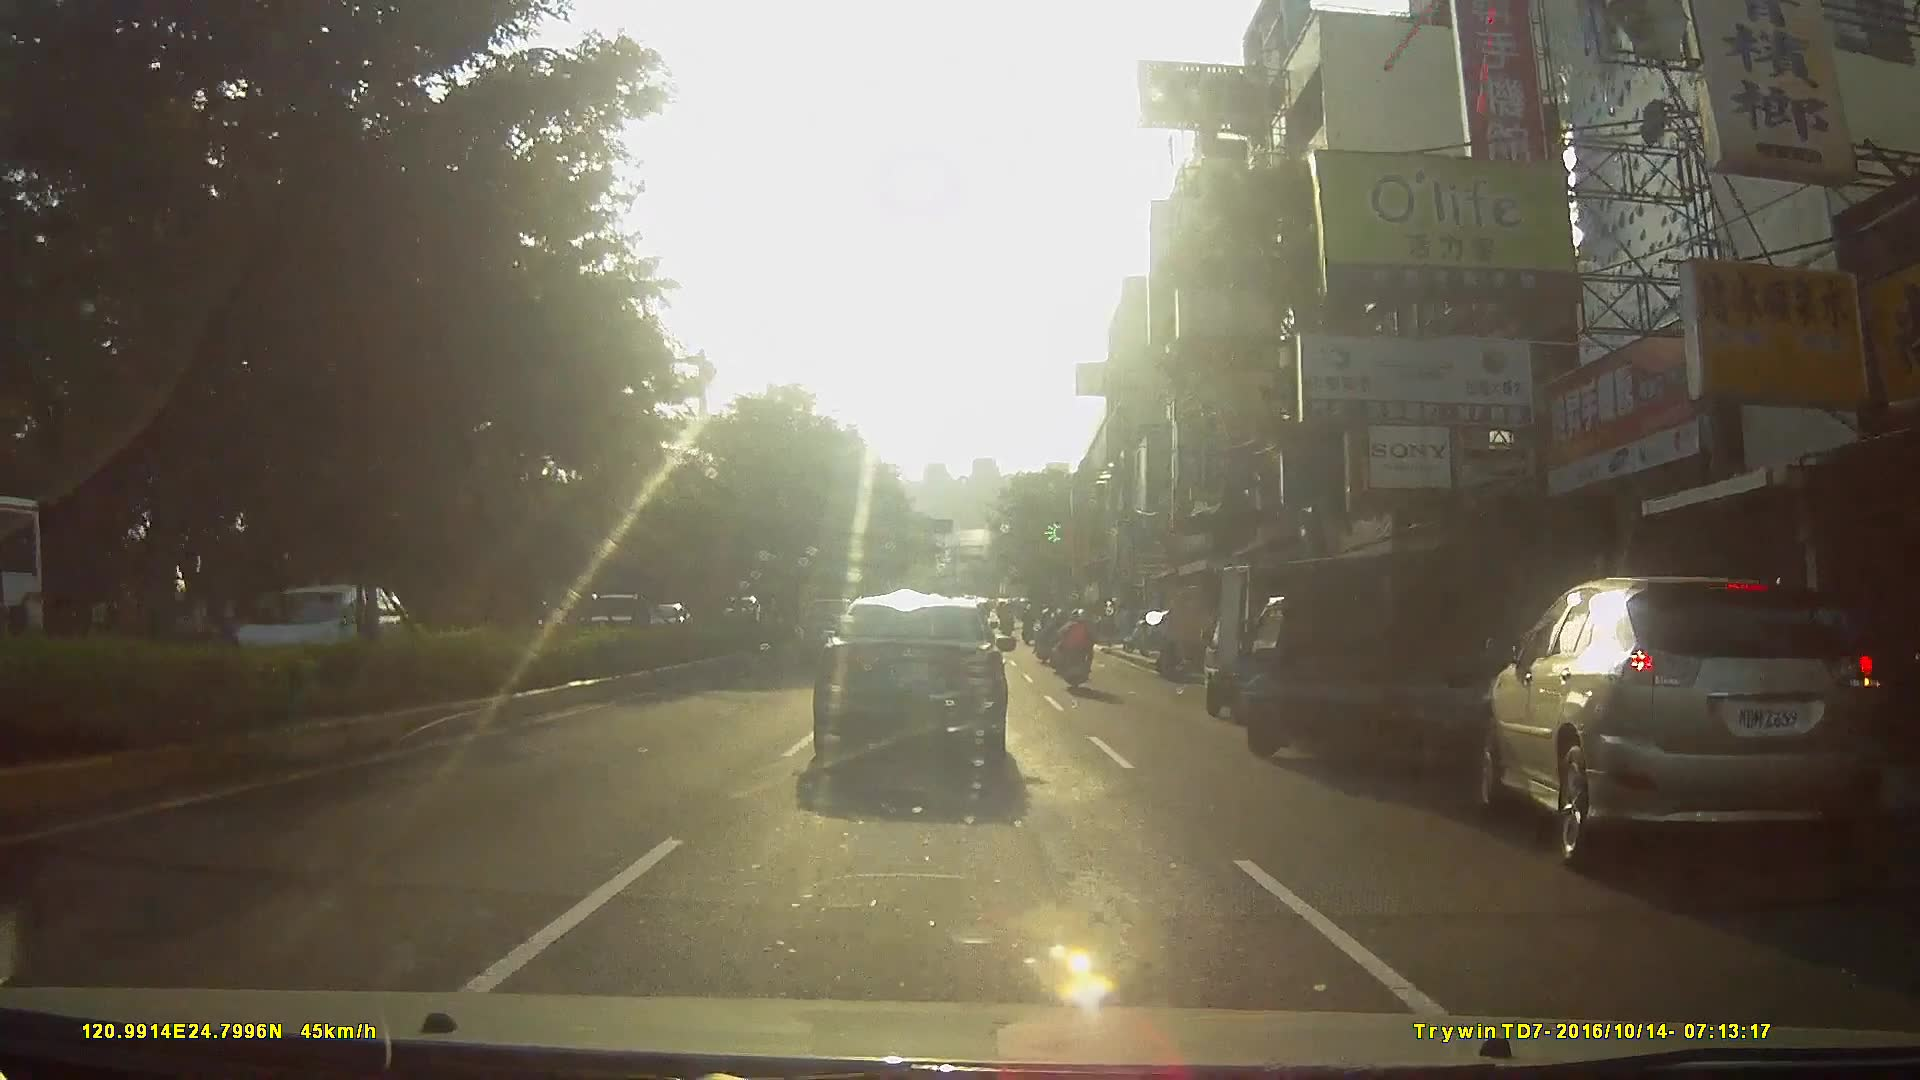rider: (1053, 607, 1096, 697), (1035, 607, 1058, 664)
vehicle: (1473, 562, 1908, 888), (1230, 541, 1536, 786), (810, 590, 1029, 780), (210, 578, 415, 689)
